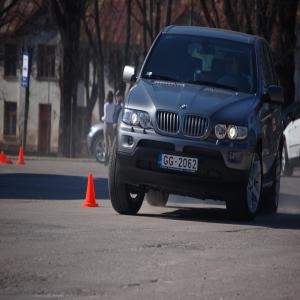Vehicle-registration-plate: (159, 155, 199, 172)
